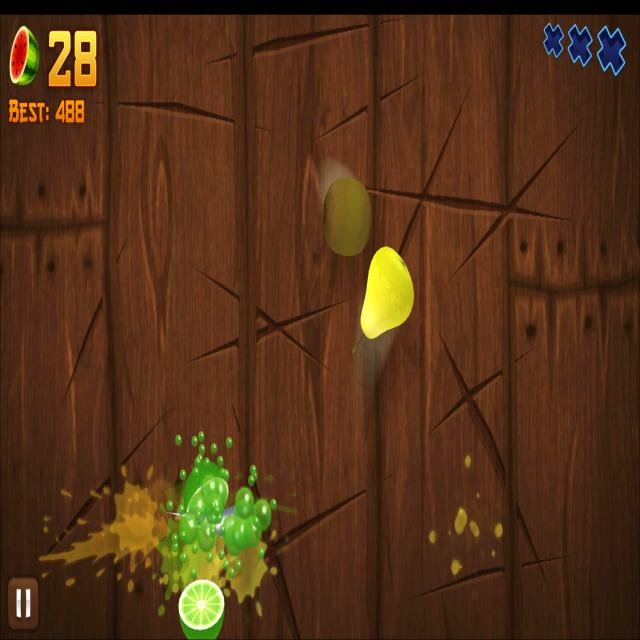fruit: (360, 245, 414, 341), (321, 177, 373, 257)
